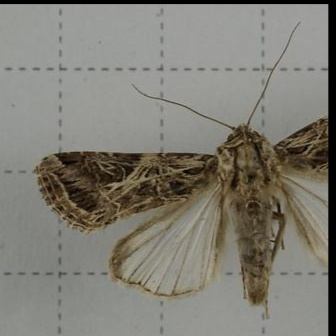Spodoptera litura: (32, 21, 328, 319)
